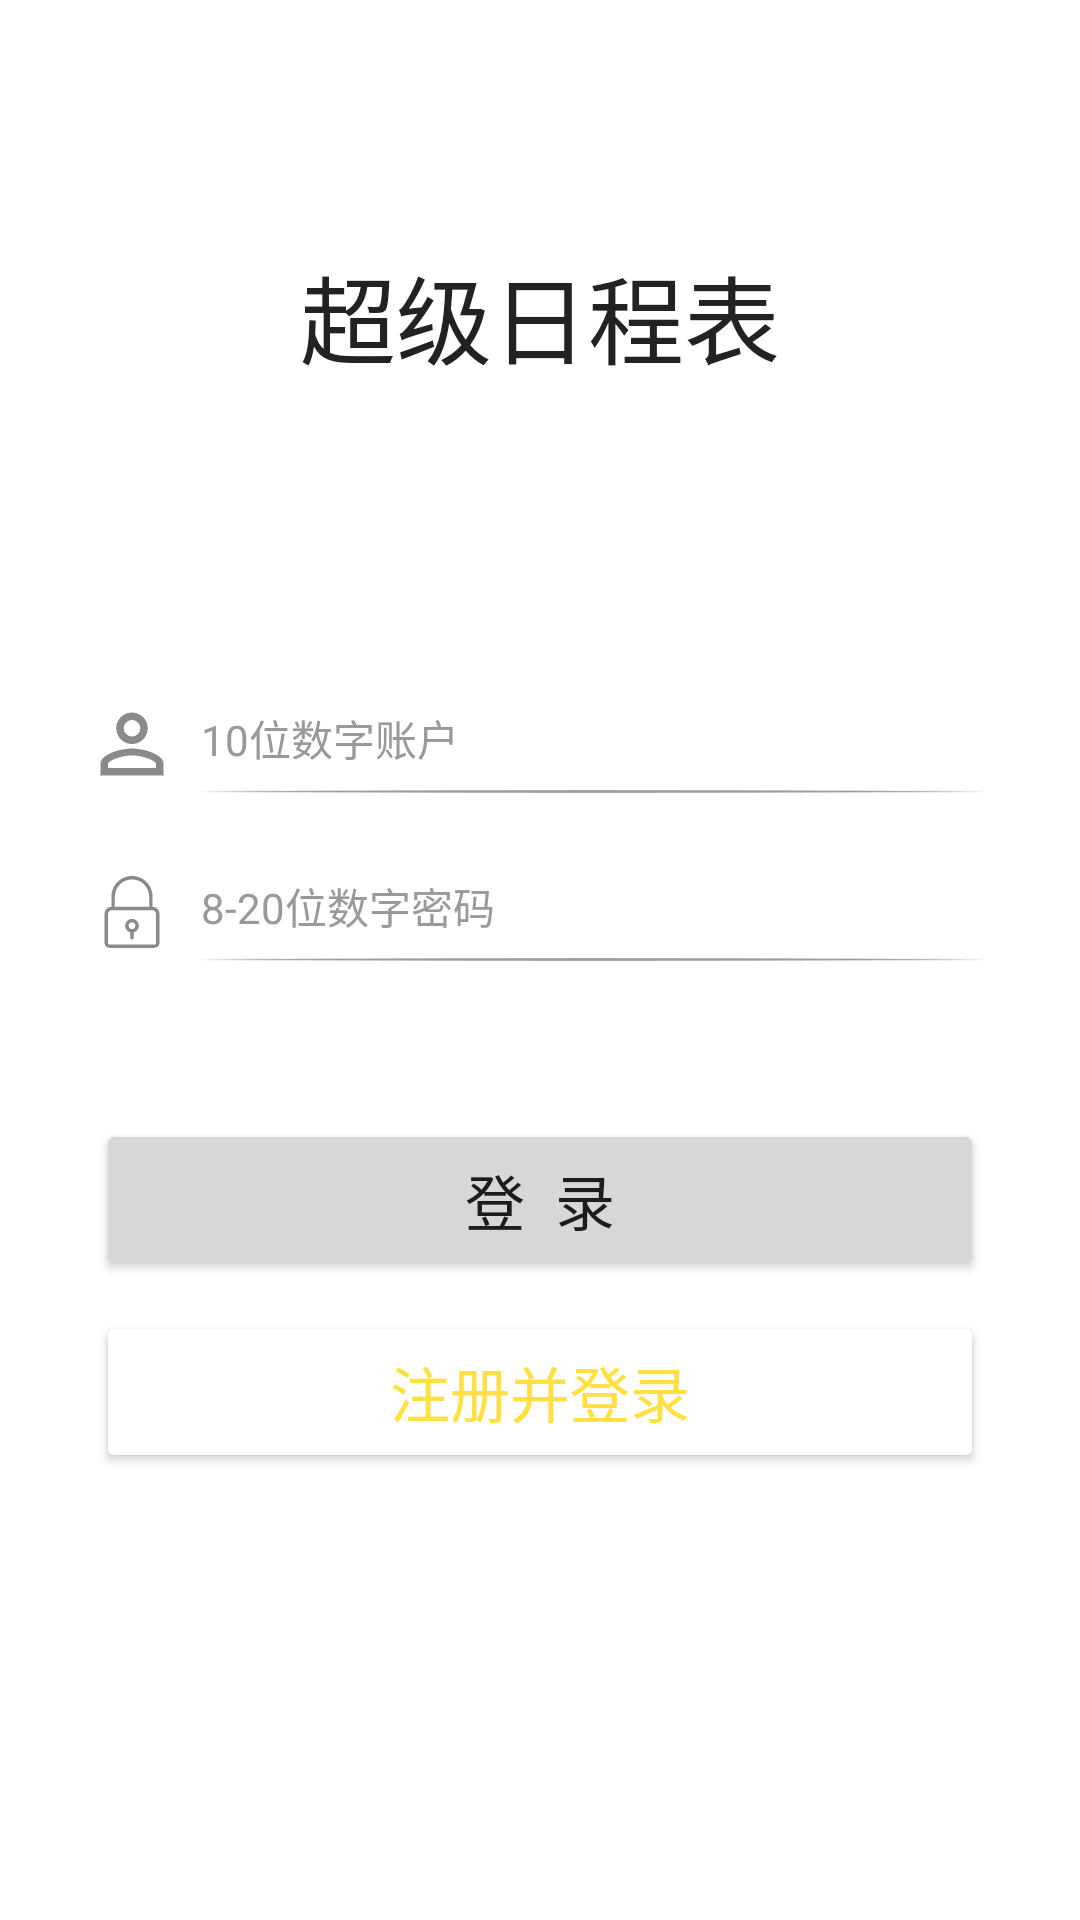

Icons on this 1080w x 1920h Android screen, each with the point to tap as [x,y]:
account: [132,744]
password: [132,912]
